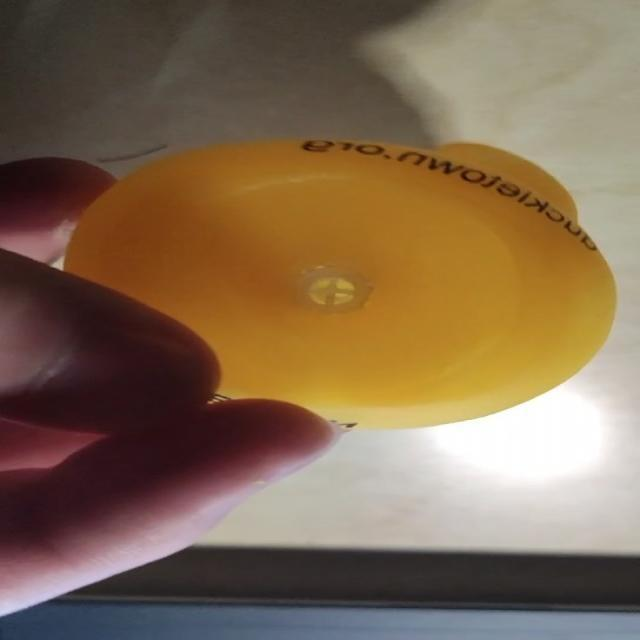rubber-duck: (64, 138, 614, 425)
